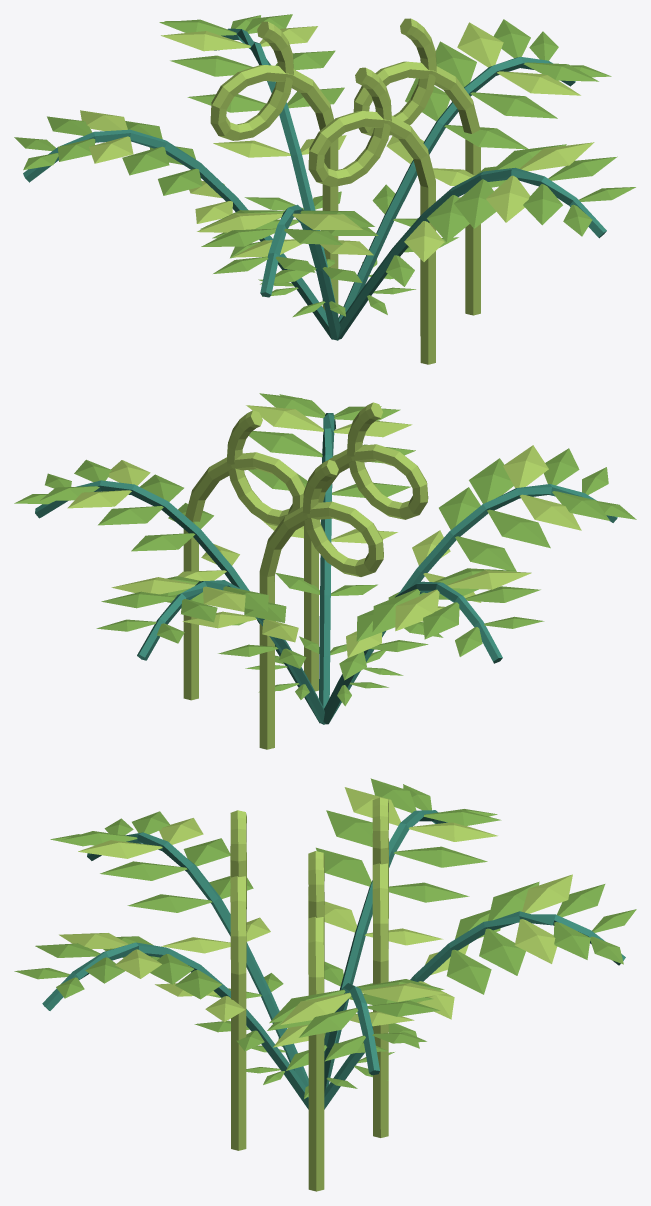
The model's file is 02_Fern_Fiddlehead.glb.
3 views of the same model, one above another, from view 1: azimuth 30°, elevation 25°; view 2: azimuth 150°, elevation 25°; view 3: azimuth 270°, elevation 25° (orthographic). The views are drawn at different scales.
Visible parts, largest first — view 1: 02_Fern_Fiddlehead_Body; view 2: 02_Fern_Fiddlehead_Body; view 3: 02_Fern_Fiddlehead_Body.
Boxes of the visible parts, x1,y1,x2,y2 form: 02_Fern_Fiddlehead_Body: (14,14,635,364); 02_Fern_Fiddlehead_Body: (14,393,636,749); 02_Fern_Fiddlehead_Body: (14,778,636,1191).
Size of the model in its own units: 1.27 by 0.6797 by 1.25.
